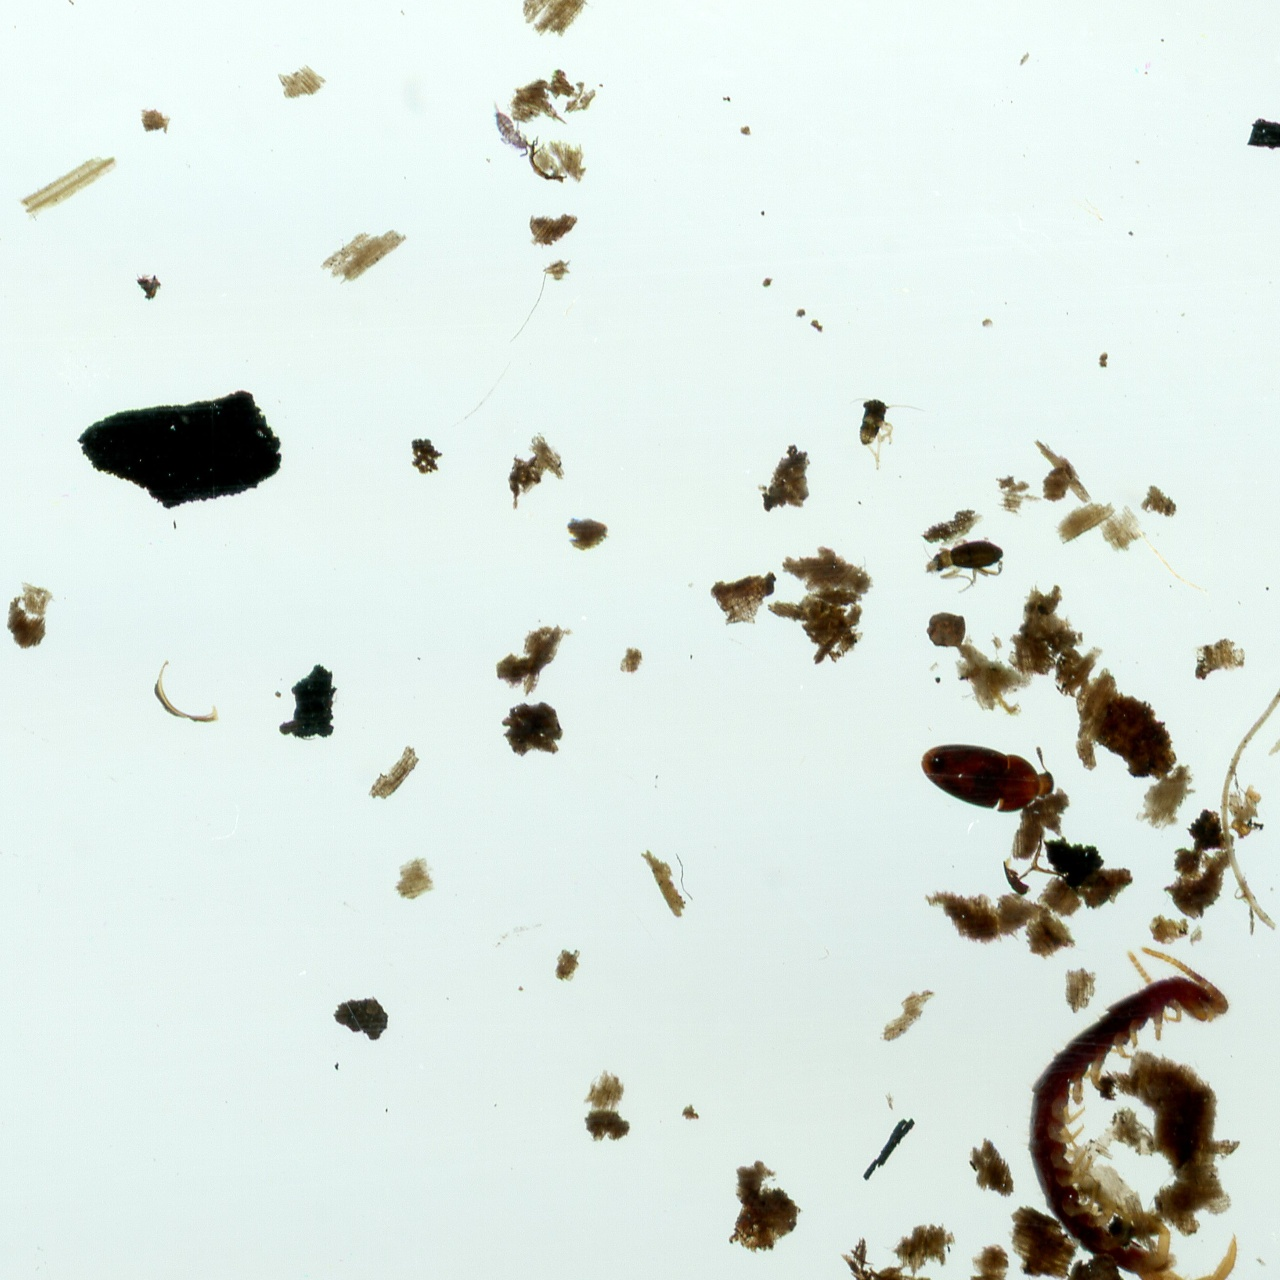arthropod: (1020, 941, 1246, 1280), (918, 741, 1057, 817), (844, 392, 930, 473), (919, 532, 1011, 595)
